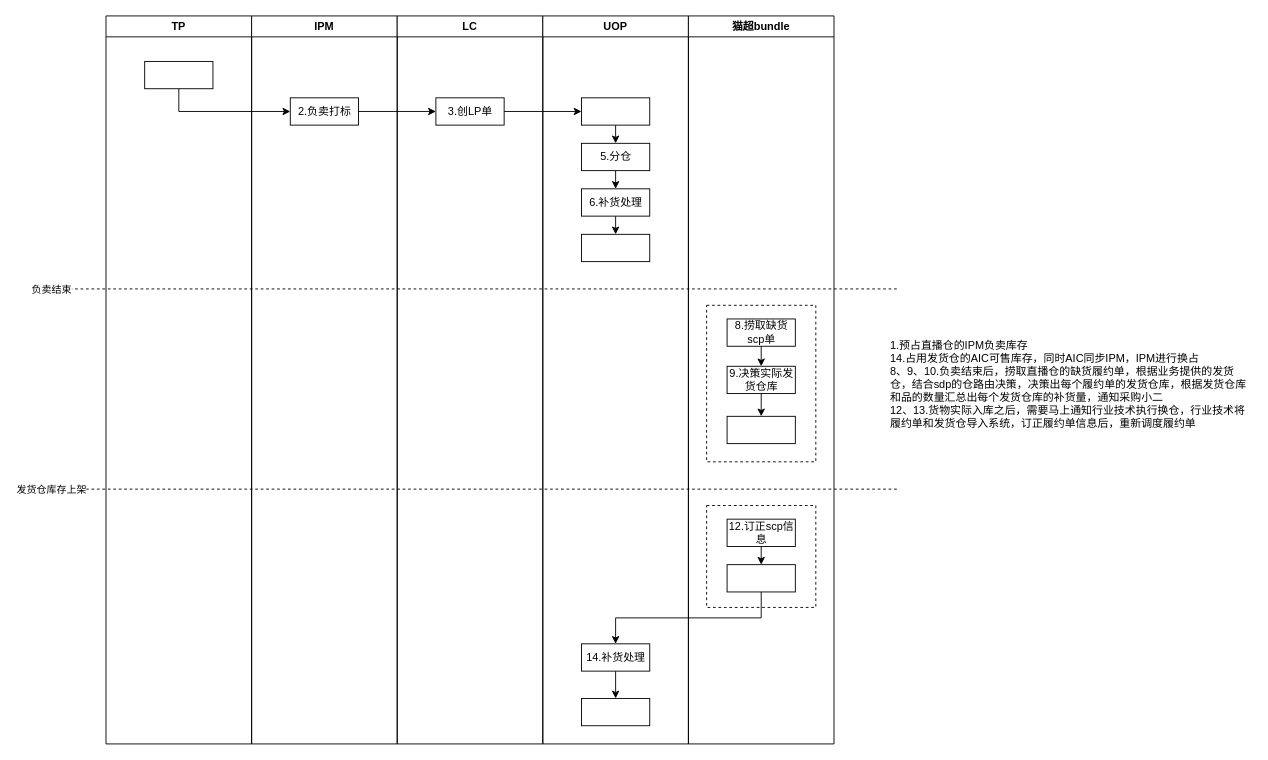
The diagram is 1268 pixels wide and 760 high, and some of its shapes have lost their labels. Each missing label, with the centre of its shape:
"1.付款" belongs at (x=178, y=75).
"10.汇总发货仓补货量" belongs at (x=760, y=429).
"13.执行换仓" belongs at (x=760, y=578).
"15.下发履行" belongs at (x=615, y=712).
"4.创SCP单" belongs at (x=615, y=111).
"7.HOLD单" belongs at (x=615, y=247).
